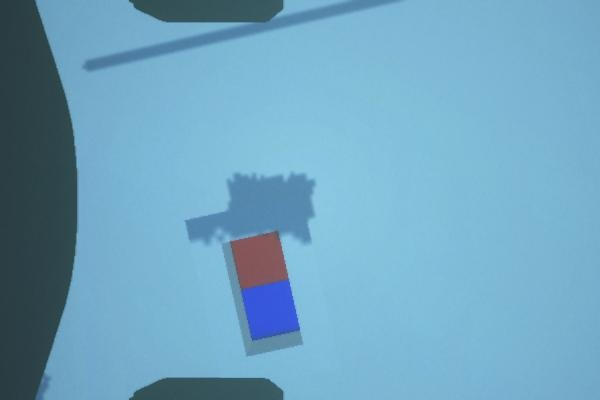bin: (184, 196, 351, 388)
bin_bleue: (241, 280, 300, 342)
bin_rouge: (231, 230, 289, 288)
